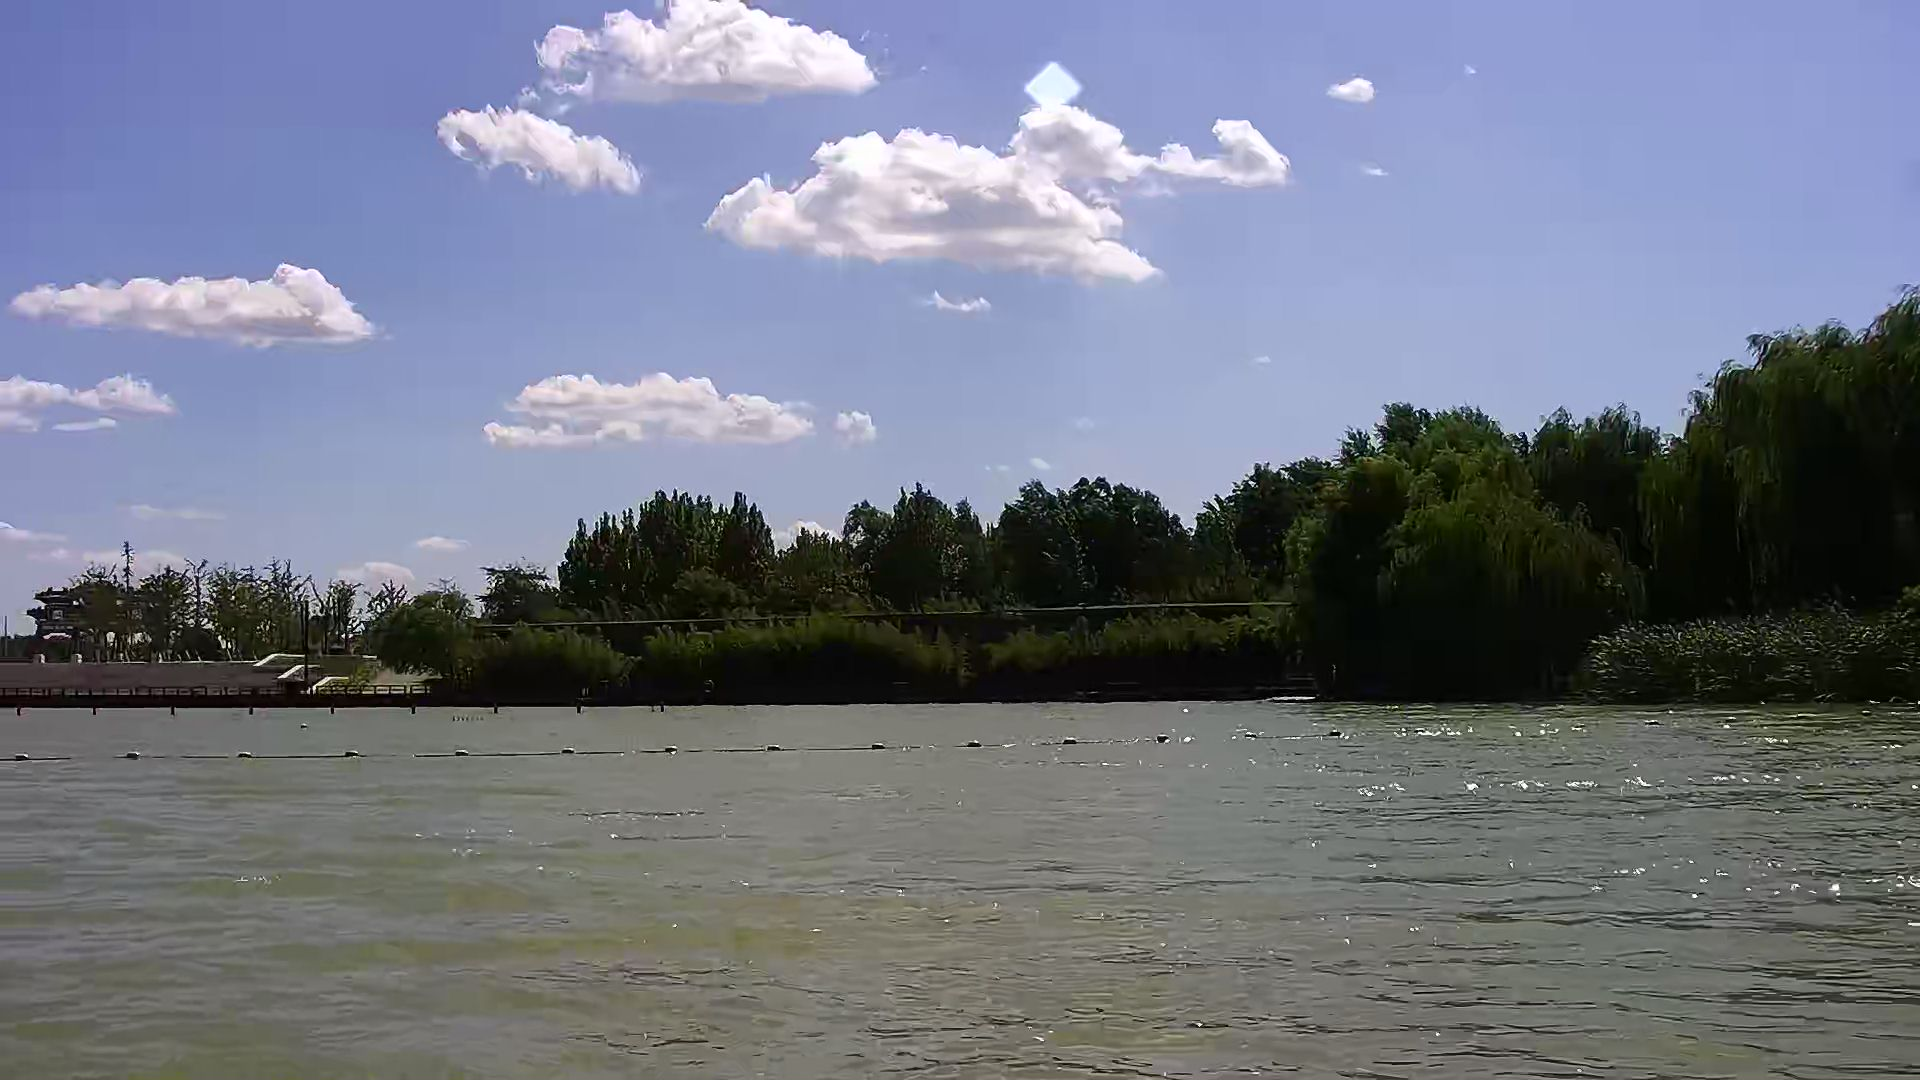ball: (444, 738, 483, 767), (866, 732, 899, 764), (963, 728, 988, 760), (661, 735, 684, 767), (9, 745, 38, 771), (340, 738, 368, 765), (116, 742, 148, 765), (760, 735, 787, 760), (555, 736, 578, 764), (231, 741, 255, 764)
harbor: (1, 651, 444, 709)
